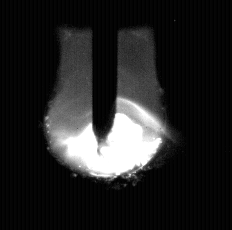arame: (92, 0, 117, 146)
poca: (46, 0, 166, 230)
